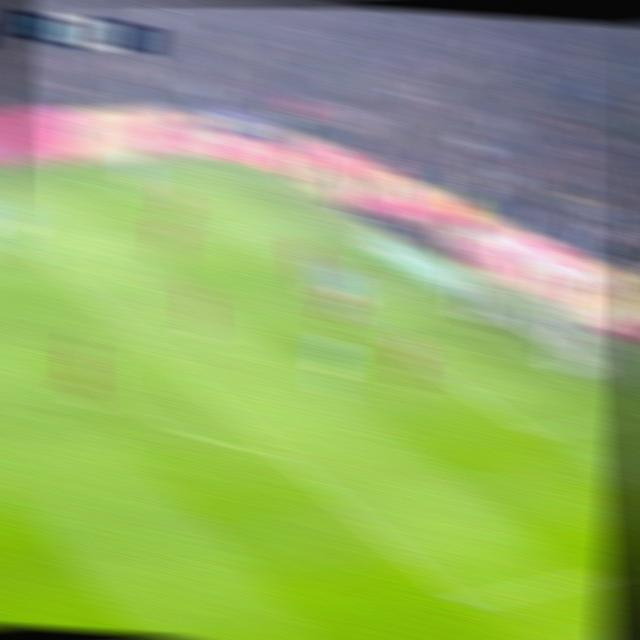bigarea_bottom_inner: (438, 583, 485, 624)
bigarea_top_inner: (13, 234, 53, 268)
bigarea_top_outter: (290, 215, 323, 237)
bottom_arc_area_intersection: (256, 428, 306, 478)
corner: (187, 157, 216, 173)
smallarea_bottom_inner: (512, 421, 554, 451)
smallarea_top_inner: (308, 287, 336, 305)
smallarea_top_outter: (392, 277, 426, 297)
top_arc_area_intersection: (116, 319, 155, 349)
